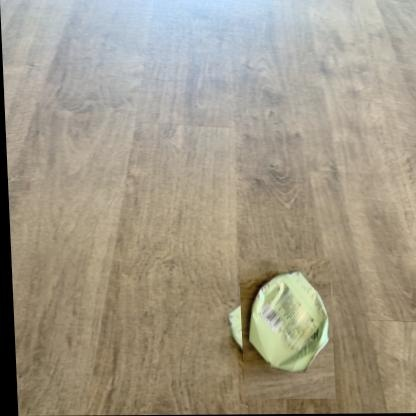trash: (249, 272, 328, 371)
